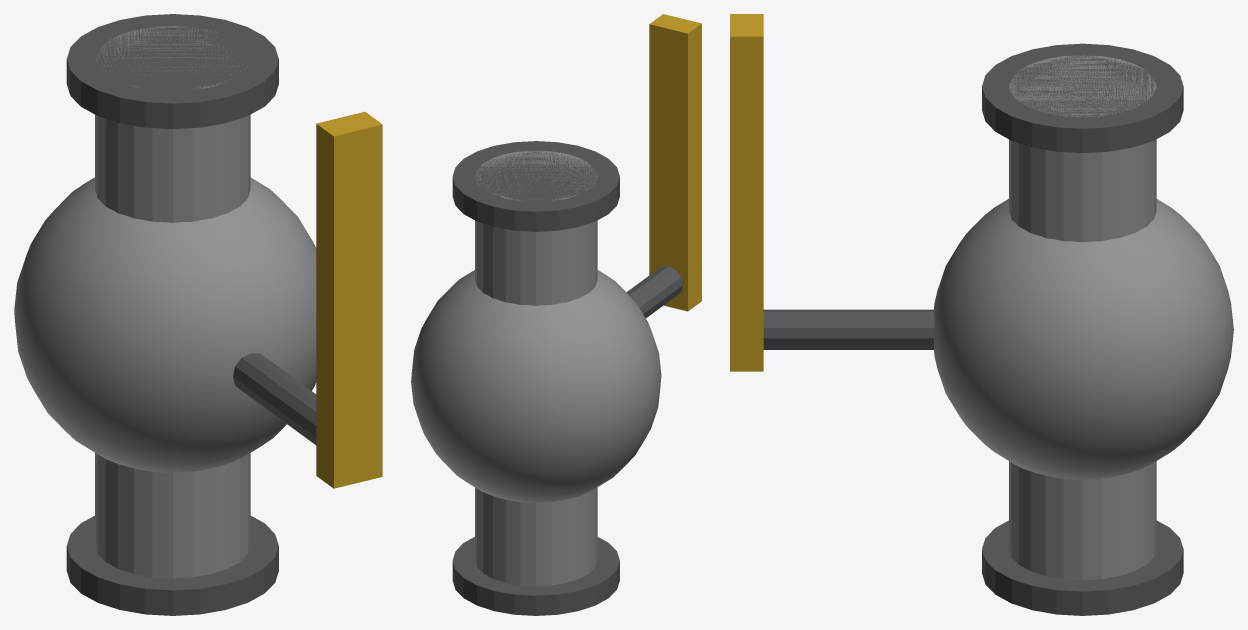
Rendered from valve.glb.
3 renders of one model, left to right at view 1: azimuth 30°, elevation 25°; view 2: azimuth 150°, elevation 25°; view 3: azimuth 270°, elevation 25°, orthographic. The views are drawn at different scales.
Visible parts, largest first — view 1: Body, Run, Handle, FlangeTop, FlangeBottom, Stem; view 2: Body, Run, Handle, FlangeTop, FlangeBottom, Stem; view 3: Body, Run, FlangeTop, Handle, FlangeBottom, Stem.
Part boxes in pixels (bbox=[...]): Body: bbox=[14, 177, 316, 472]; Run: bbox=[95, 26, 250, 578]; Handle: bbox=[316, 111, 382, 488]; FlangeTop: bbox=[66, 14, 278, 129]; FlangeBottom: bbox=[66, 515, 278, 615]; Stem: bbox=[233, 353, 316, 445]; Body: bbox=[411, 270, 661, 502]; Run: bbox=[475, 150, 597, 586]; Handle: bbox=[649, 14, 701, 311]; FlangeTop: bbox=[452, 141, 619, 231]; FlangeBottom: bbox=[452, 537, 619, 615]; Stem: bbox=[626, 266, 682, 317]; Body: bbox=[933, 199, 1233, 479]; Run: bbox=[1009, 55, 1156, 580]; FlangeTop: bbox=[982, 43, 1183, 153]; Handle: bbox=[730, 14, 763, 371]; FlangeBottom: bbox=[982, 520, 1183, 615]; Stem: bbox=[763, 309, 934, 349].
Bounding box in the file's own units: 0.09 × 0.18 × 0.15.
